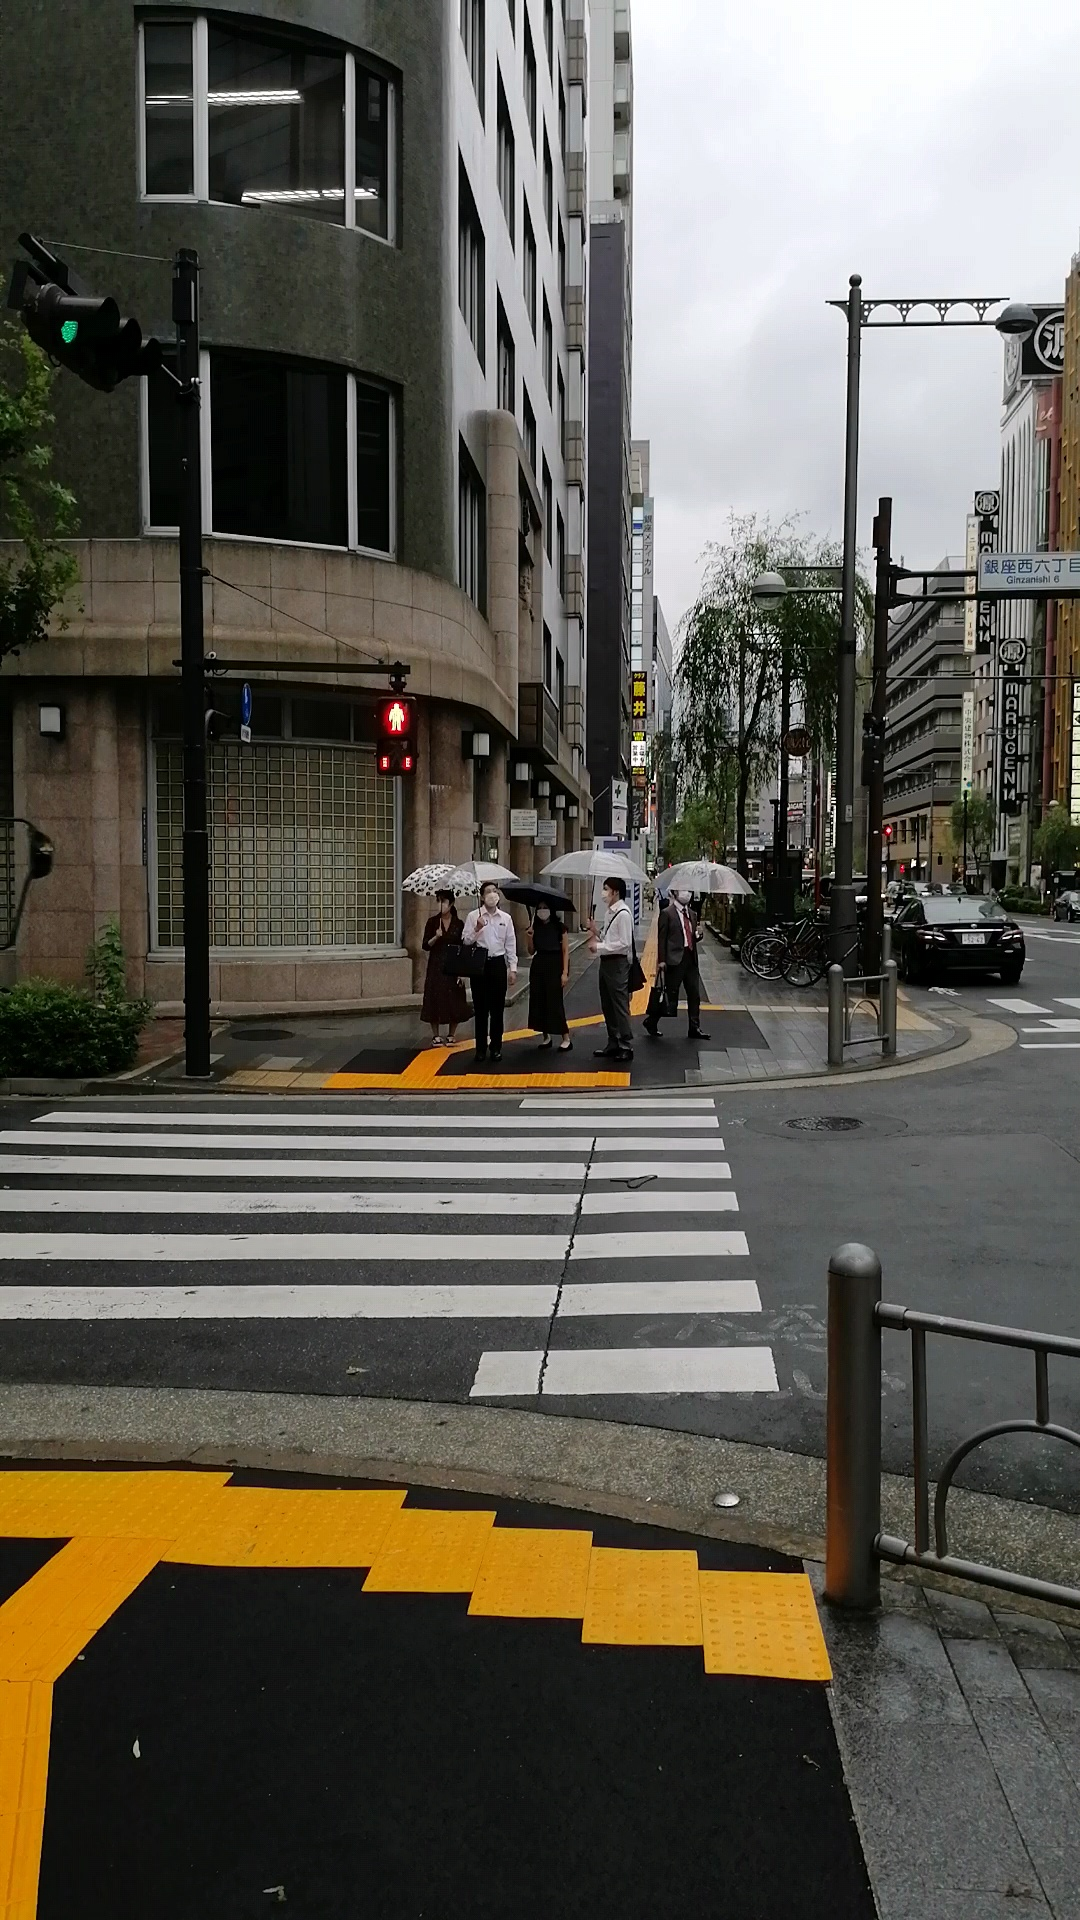red: (375, 694, 418, 774)
